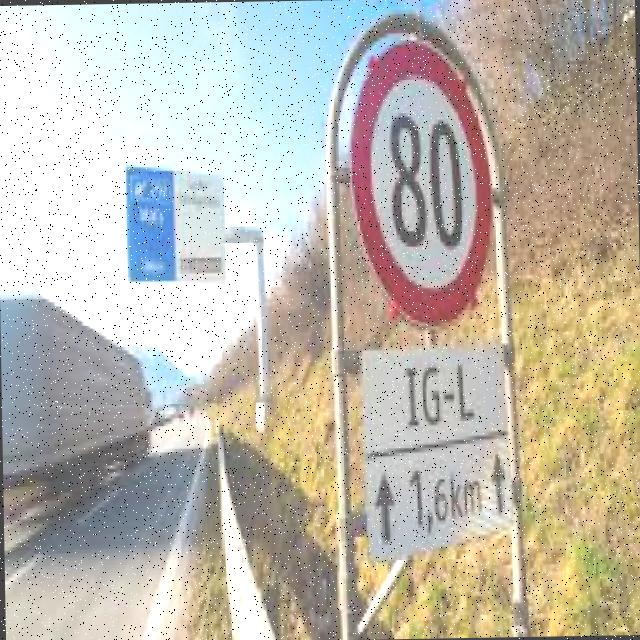Ograniczenie predkosci do 80: (356, 66, 496, 312)
